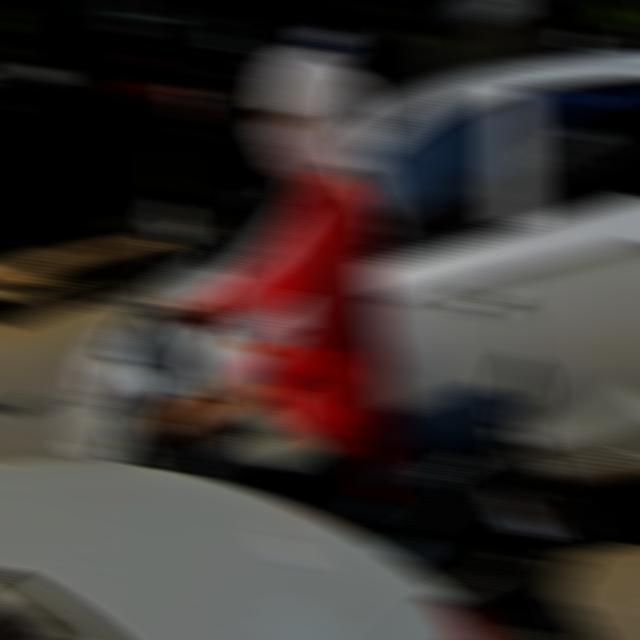Without Helmet: (242, 48, 384, 196)
